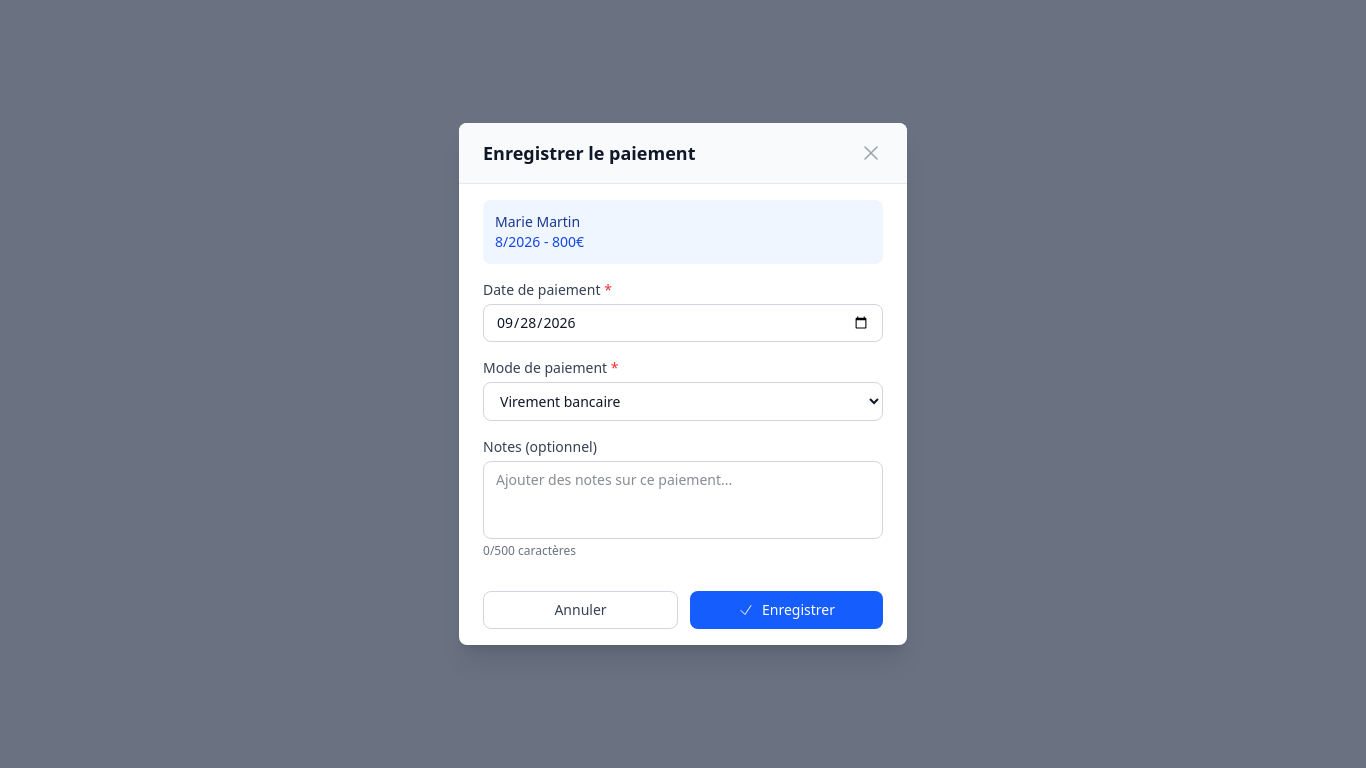
it: RecordPaymentModal dismissal › gates Escape behind a dirty-form confirmation when notes were typed
Type "Paiement partiel" into the text box labelled "Notes (optionnel)" at (683, 500), box [483,461,883,539]
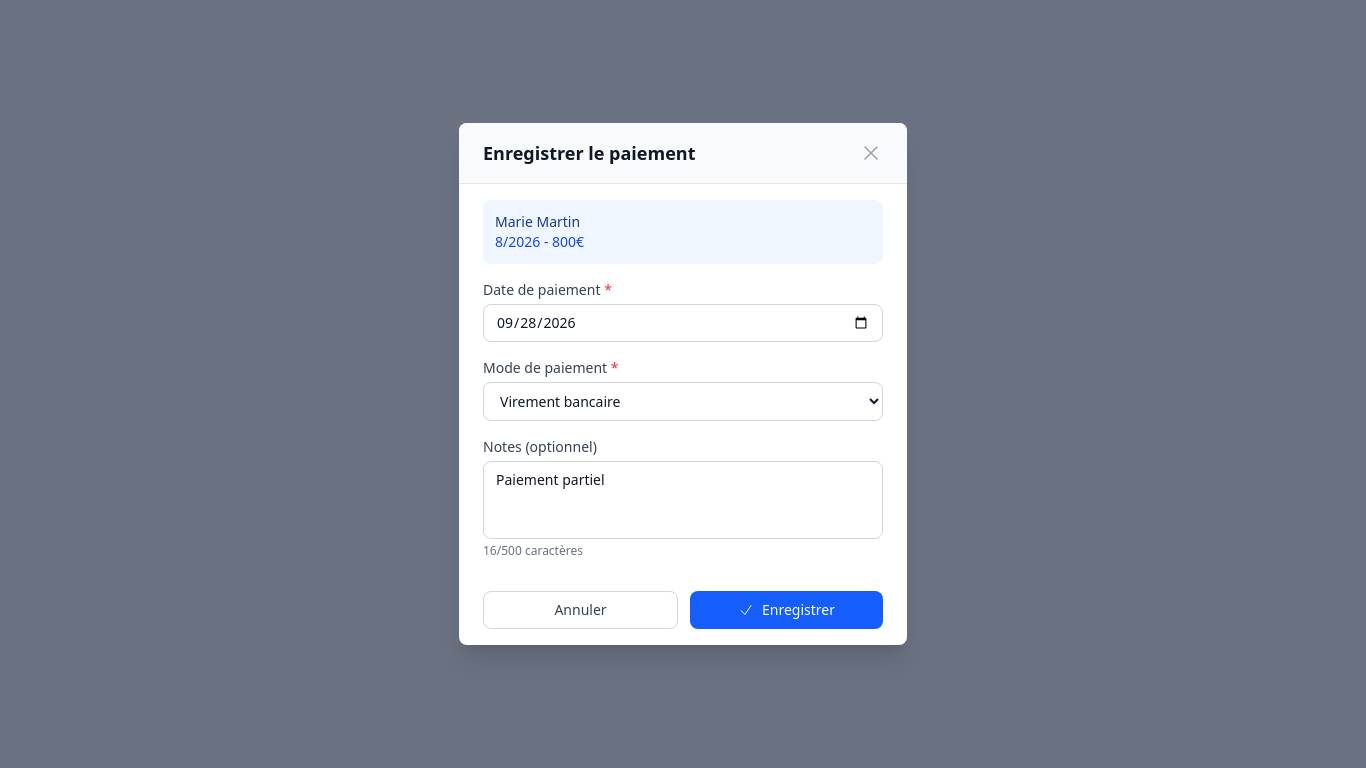
Press Escape
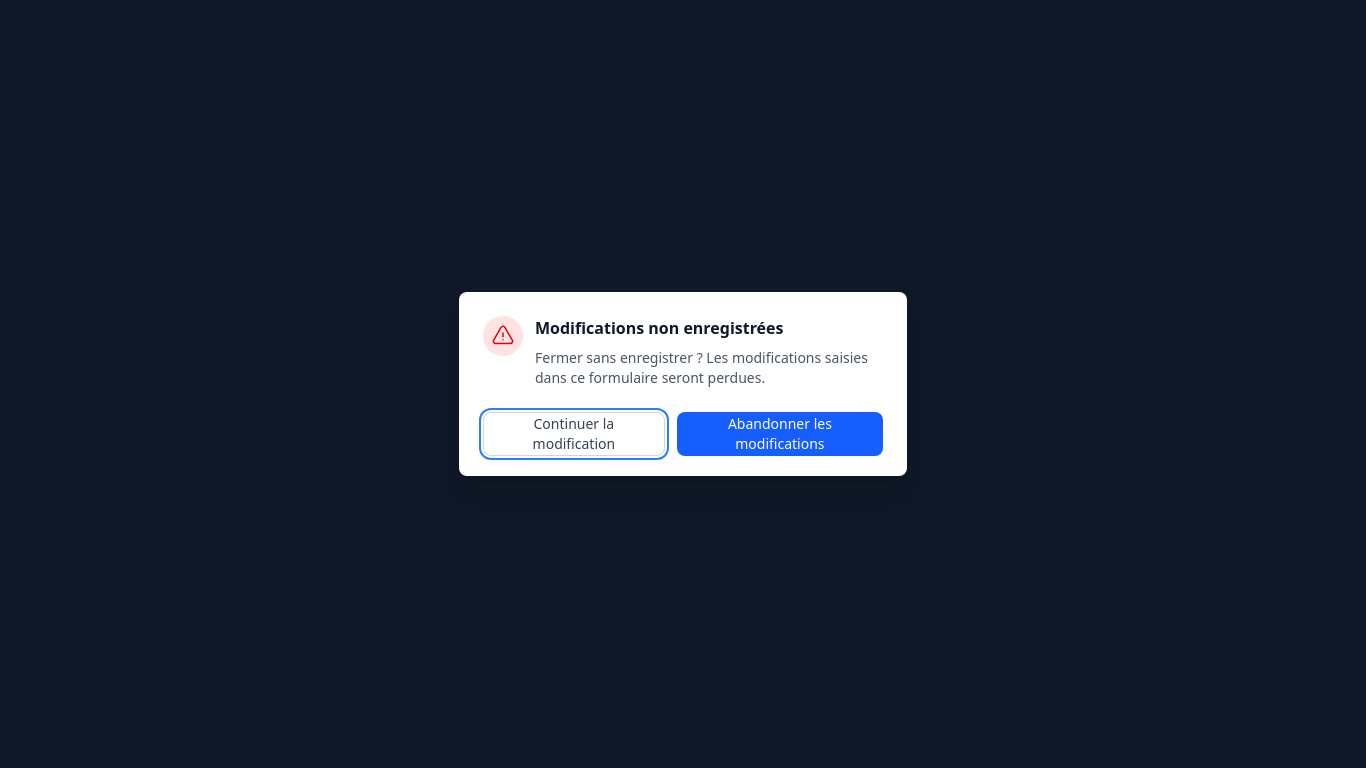
Now the dialog with test id "confirm-dialog" is shown
Now the text "Fermer sans enregistrer ? Les modifications saisies dans ce formulaire seront perdues." is shown, box [535,348,868,387]
